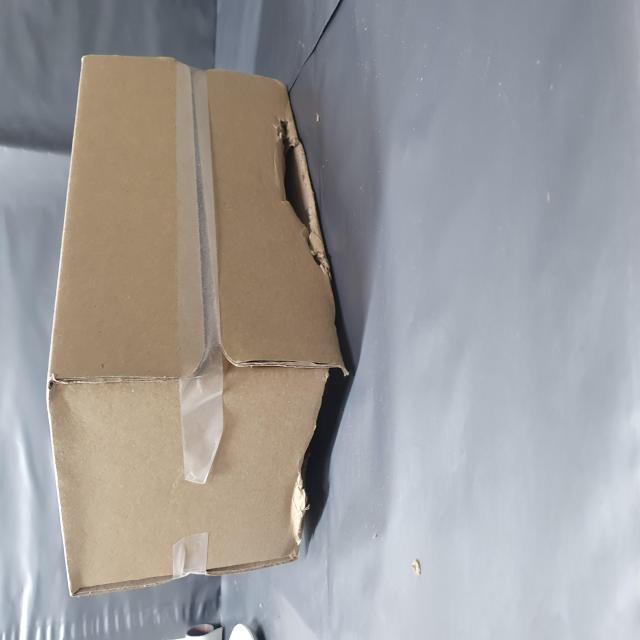damaged: (207, 491, 294, 575)
